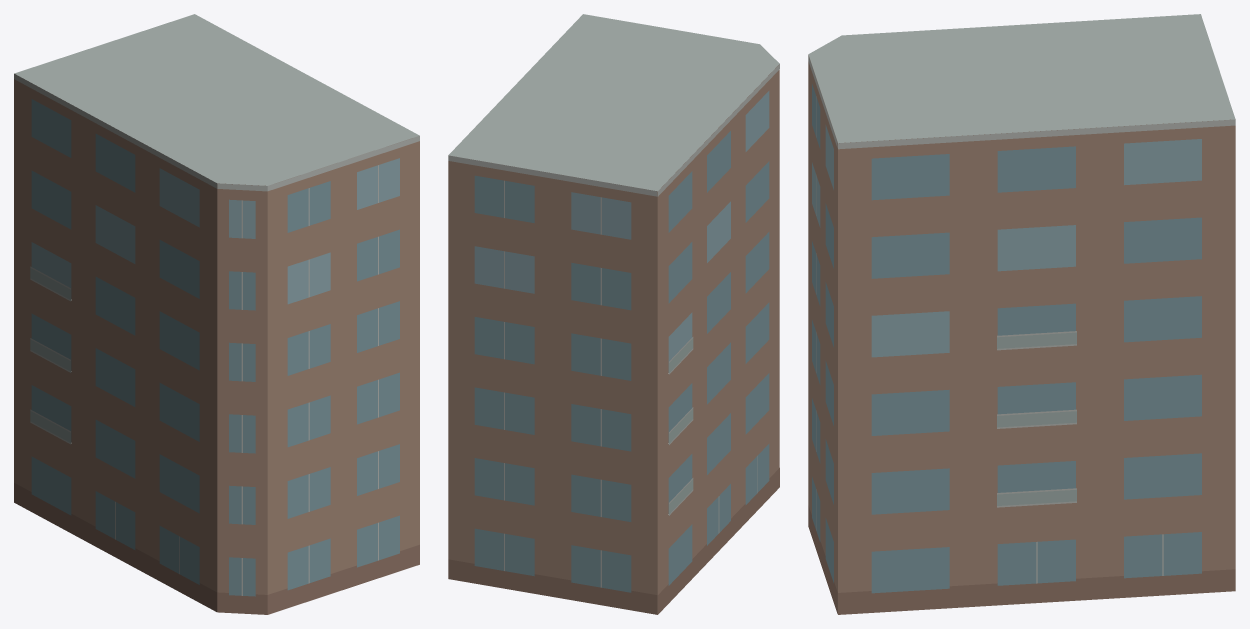
File: survey-upis-32523415.glb
3 views of the same model, side by side, from view 1: azimuth 30°, elevation 25°; view 2: azimuth 150°, elevation 25°; view 3: azimuth 270°, elevation 25° (orthographic). The views are drawn at different scales.
Parts seen in each view (by area): view 1: survey-upis-32523415.tmp; view 2: survey-upis-32523415.tmp; view 3: survey-upis-32523415.tmp.
Part boxes in pixels (x1,y1,x2,y2): survey-upis-32523415.tmp: [14, 14, 419, 614]; survey-upis-32523415.tmp: [448, 14, 779, 614]; survey-upis-32523415.tmp: [808, 14, 1235, 614].
Bounding box in the file's own units: 11.11 × 18.9 × 15.53.
